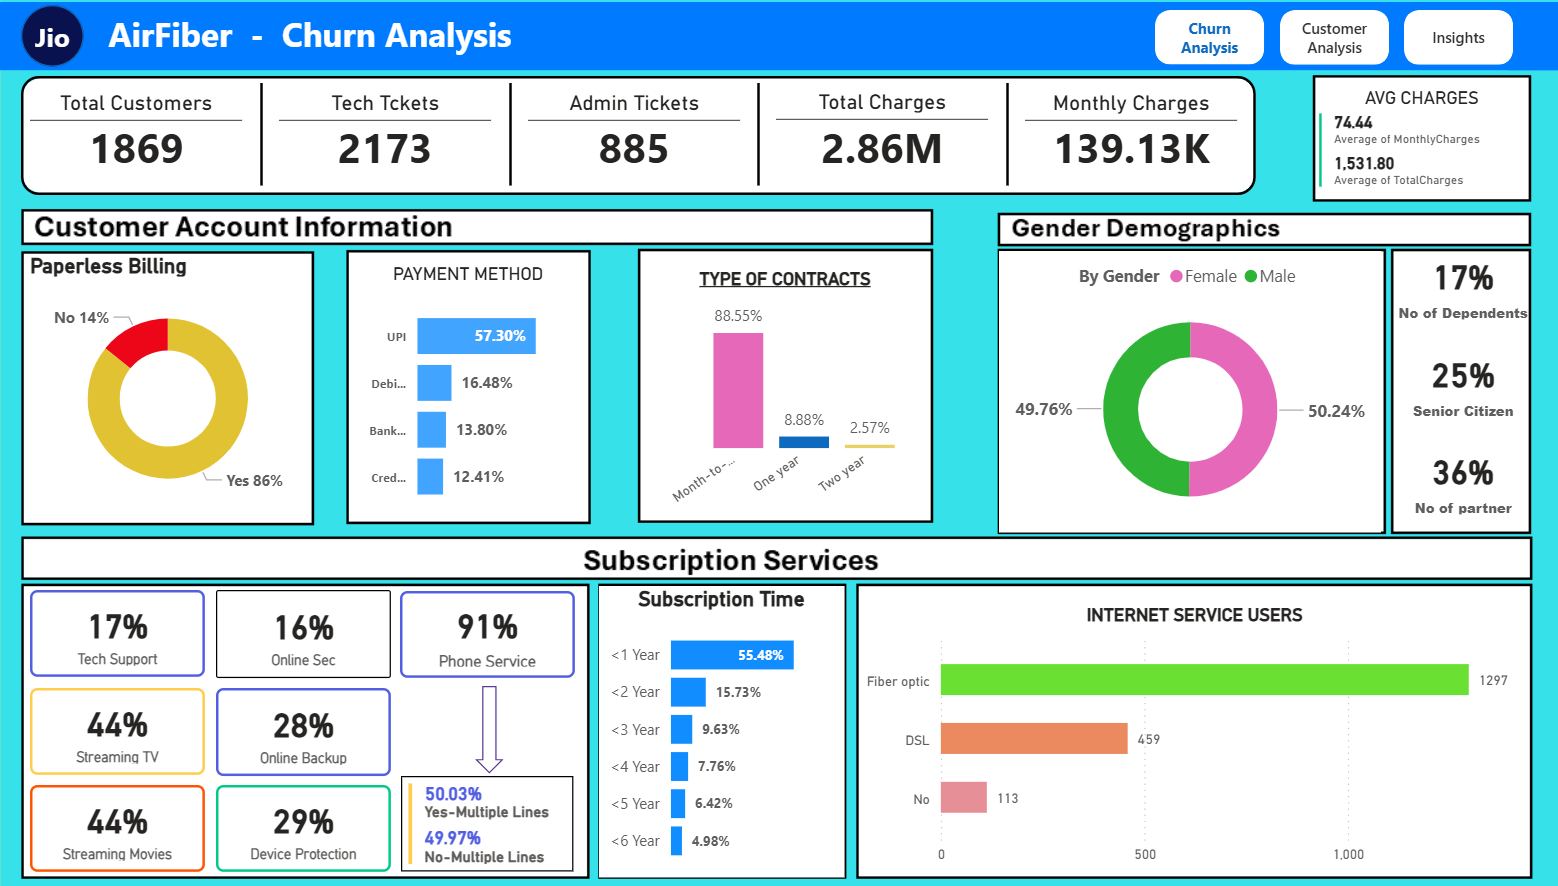

The page's visual inventory and layout, read from the dashboard file:
{"tool":"powerbi","page":{"name":"Churn","canvas":[1280,720],"ordinal":0},"visuals":[{"type":"card","title":"Total Customers","fields":{"Values":["CountNonNull(Churn_Dataset.customerID)"]},"box":[25.2,75.1,171.3,76.6],"z":0,"group":"g3"},{"type":"barChart","title":"INTERNET SERVICE USERS","fields":{"Category":["Churn_Dataset.InternetService"],"Y":["CountNonNull(Churn_Dataset.InternetService)"]},"box":[693.4,474.7,541.2,234.8],"z":0},{"type":"card","title":"Tech Tckets","fields":{"Values":["Sum(Churn_Dataset.NumTechTickets)"]},"box":[225.8,75.1,171.3,76.6],"z":1000,"group":"g3"},{"type":"columnChart","title":"TYPE OF CONTRACTS","fields":{"Category":["Churn_Dataset.Contract"],"Y":["CountNonNull(Churn_Dataset.Contract)"]},"box":[517,203.6,233.8,218.7],"z":1000},{"type":"card","fields":{"Values":["ALL_DAX.Tech Support"]},"box":[25.2,477.7,141.1,69.5],"z":1000,"group":"g2"},{"type":"card","title":"Total Charges","fields":{"Values":["Sum(Churn_Dataset.TotalCharges)"]},"box":[626.9,74.5,171.3,77.6],"z":2000,"group":"g3"},{"type":"clusteredBarChart","title":"PAYMENT METHOD","fields":{"Category":["Churn_Dataset.PaymentMethod"],"Y":["CountNonNull(Churn_Dataset.PaymentMethod)"]},"box":[281.2,204.6,193.5,217.7],"z":2000},{"type":"multiRowCard","title":"AVG CHARGES","fields":{"Values":["Churn_Dataset.MonthlyCharges","Churn_Dataset.TotalCharges"]},"box":[1059.3,62.5,175.4,101.8],"z":3000},{"type":"card","title":"Admin Tickets","fields":{"Values":["Sum(Churn_Dataset.NumAdminTickets)"]},"box":[426.3,75.1,171.3,76.6],"z":3000,"group":"g3"},{"type":"card","fields":{"Values":["ALL_DAX.Streaming TV"]},"box":[25.2,556.3,141.1,69.5],"z":3000,"group":"g2"},{"type":"card","title":"Monthly Charges","fields":{"Values":["Sum(Churn_Dataset.MonthlyCharges)"]},"box":[827.5,75.1,171.3,76.6],"z":4000,"group":"g3"},{"type":"group","id":"g1","title":"Group 1","box":[1114.7,199.6,131,231.8],"z":4000},{"type":"card","fields":{"Values":["ALL_DAX.Streaming Movies"]},"box":[25.2,634.9,141.1,69.5],"z":4000,"group":"g2"},{"type":"shape","box":[799.2,69.5,28.2,82.6],"z":5000,"group":"g3"},{"type":"donutChart","fields":{"Category":["Churn_Dataset.Gender"],"Y":["CountNonNull(Churn_Dataset.Gender)"]},"box":[806.3,204.6,308.4,226.8],"z":5000},{"type":"card","title":"Senior Citizen","fields":{"Values":["ALL_DAX.Senior Citizen"]},"box":[1114.7,278.2,131,74.6],"z":5000,"group":"g1"},{"type":"shape","box":[398.1,69.5,28.2,82.6],"z":6000,"group":"g3"},{"type":"donutChart","title":"Paperless Billing","fields":{"Category":["Churn_Dataset.PaperlessBilling"],"Y":["CountNonNull(Churn_Dataset.PaperlessBilling)"]},"box":[20.2,206.6,231.8,215.7],"z":6000},{"type":"card","fields":{"Values":["ALL_DAX.Device Protection"]},"box":[175.4,634.9,141.1,69.5],"z":6000,"group":"g2"},{"type":"shape","box":[598.7,69.5,28.2,82.6],"z":7000,"group":"g3"},{"type":"card","fields":{"Values":["ALL_DAX.No of partner"]},"box":[1114.7,356.8,131,74.6],"z":7000,"group":"g1"},{"type":"group","id":"g2","title":"Group 2","box":[25.2,477.7,439.4,226.8],"z":7000},{"type":"group","id":"g3","title":"Group 3","box":[25.2,69.5,973.6,82.7],"z":8000},{"type":"shape","box":[197.5,69.5,28.2,82.6],"z":8000,"group":"g3"},{"type":"card","fields":{"Values":["ALL_DAX.Online Backup"]},"box":[175.4,556.3,141.1,70.6],"z":8000,"group":"g2"},{"type":"clusteredBarChart","title":"Subscription Time","fields":{"Y":["CountNonNull(Churn_Dataset.Tenure(in Years))"],"Category":["Churn_Dataset.Tenure(in Years)"]},"box":[483.8,474.7,197.5,234.8],"z":9000},{"type":"shape","box":[17.8,64,995.6,96],"z":10000},{"type":"card","fields":{"Values":["ALL_DAX.No of Dependents"]},"box":[1114.7,199.6,131,74.6],"z":10000,"group":"g1"},{"type":"card","fields":{"Values":["ALL_DAX.Online Sec"]},"box":[175.4,477.7,141.1,70.6],"z":10000,"group":"g2"},{"type":"shape","box":[0,3.8,1280,55.1],"z":11000},{"type":"shape","box":[1216.9,3.7,63.1,55.1],"z":12000},{"type":"shape","box":[17.8,6.3,50.7,49.8],"z":13000},{"type":"textbox","box":[82.7,6.2,467.6,49.8],"z":14000},{"type":"card","fields":{"Values":["ALL_DAX.Phone Service"]},"box":[323.5,478.7,141.1,69.5],"z":14000,"group":"g2"},{"type":"multiRowCard","fields":{"Values":["ALL_DAX.Yes-Multiple Lines","ALL_DAX.No-Multiple Lines"]},"box":[324.5,627.9,139.1,76.6],"z":15000,"group":"g2"},{"type":"actionButton","box":[932.3,10.7,88,44],"z":16000},{"type":"actionButton","box":[1032.6,10.5,88,44.3],"z":17000},{"type":"actionButton","box":[1132.9,10.5,88,44.3],"z":18000},{"type":"shape","box":[384,555.3,23.2,70.6],"z":22000,"group":"g2"}]}

Visuals, with their boxes in screenshot pixels (x1, y1, x2, y2), scaled from the page's 1280x720 canvas onto the 1558x886 screenshot:
"Total Customers" card: (31, 92, 239, 187)
"INTERNET SERVICE USERS" barChart: (844, 584, 1503, 873)
"Tech Tckets" card: (275, 92, 483, 187)
"TYPE OF CONTRACTS" columnChart: (629, 251, 914, 520)
card - ALL_DAX.Tech Support: (31, 588, 202, 673)
"Total Charges" card: (763, 92, 972, 187)
"PAYMENT METHOD" clusteredBarChart: (342, 252, 578, 520)
"AVG CHARGES" multiRowCard: (1289, 77, 1503, 202)
"Admin Tickets" card: (519, 92, 727, 187)
card - ALL_DAX.Streaming TV: (31, 685, 202, 770)
"Monthly Charges" card: (1007, 92, 1216, 187)
"Group 1" group: (1357, 246, 1516, 531)
card - ALL_DAX.Streaming Movies: (31, 781, 202, 867)
shape: (973, 86, 1007, 187)
donutChart - Churn_Dataset.Gender x CountNonNull(Churn_Dataset.Gender): (981, 252, 1357, 531)
"Senior Citizen" card: (1357, 342, 1516, 434)
shape: (485, 86, 519, 187)
"Paperless Billing" donutChart: (25, 254, 307, 520)
card - ALL_DAX.Device Protection: (213, 781, 385, 867)
shape: (729, 86, 763, 187)
card - ALL_DAX.No of partner: (1357, 439, 1516, 531)
"Group 2" group: (31, 588, 566, 867)
"Group 3" group: (31, 86, 1216, 187)
shape: (240, 86, 275, 187)
card - ALL_DAX.Online Backup: (213, 685, 385, 771)
"Subscription Time" clusteredBarChart: (589, 584, 829, 873)
shape: (22, 79, 1233, 197)
card - ALL_DAX.No of Dependents: (1357, 246, 1516, 337)
card - ALL_DAX.Online Sec: (213, 588, 385, 675)
shape: (0, 5, 1557, 72)
shape: (1481, 5, 1557, 72)
shape: (22, 8, 83, 69)
textbox: (101, 8, 670, 69)
card - ALL_DAX.Phone Service: (394, 589, 566, 675)
multiRowCard - ALL_DAX.Yes-Multiple Lines x ALL_DAX.No-Multiple Lines: (395, 773, 564, 867)
actionButton: (1135, 13, 1242, 67)
actionButton: (1257, 13, 1364, 67)
actionButton: (1379, 13, 1486, 67)
shape: (467, 683, 496, 770)
